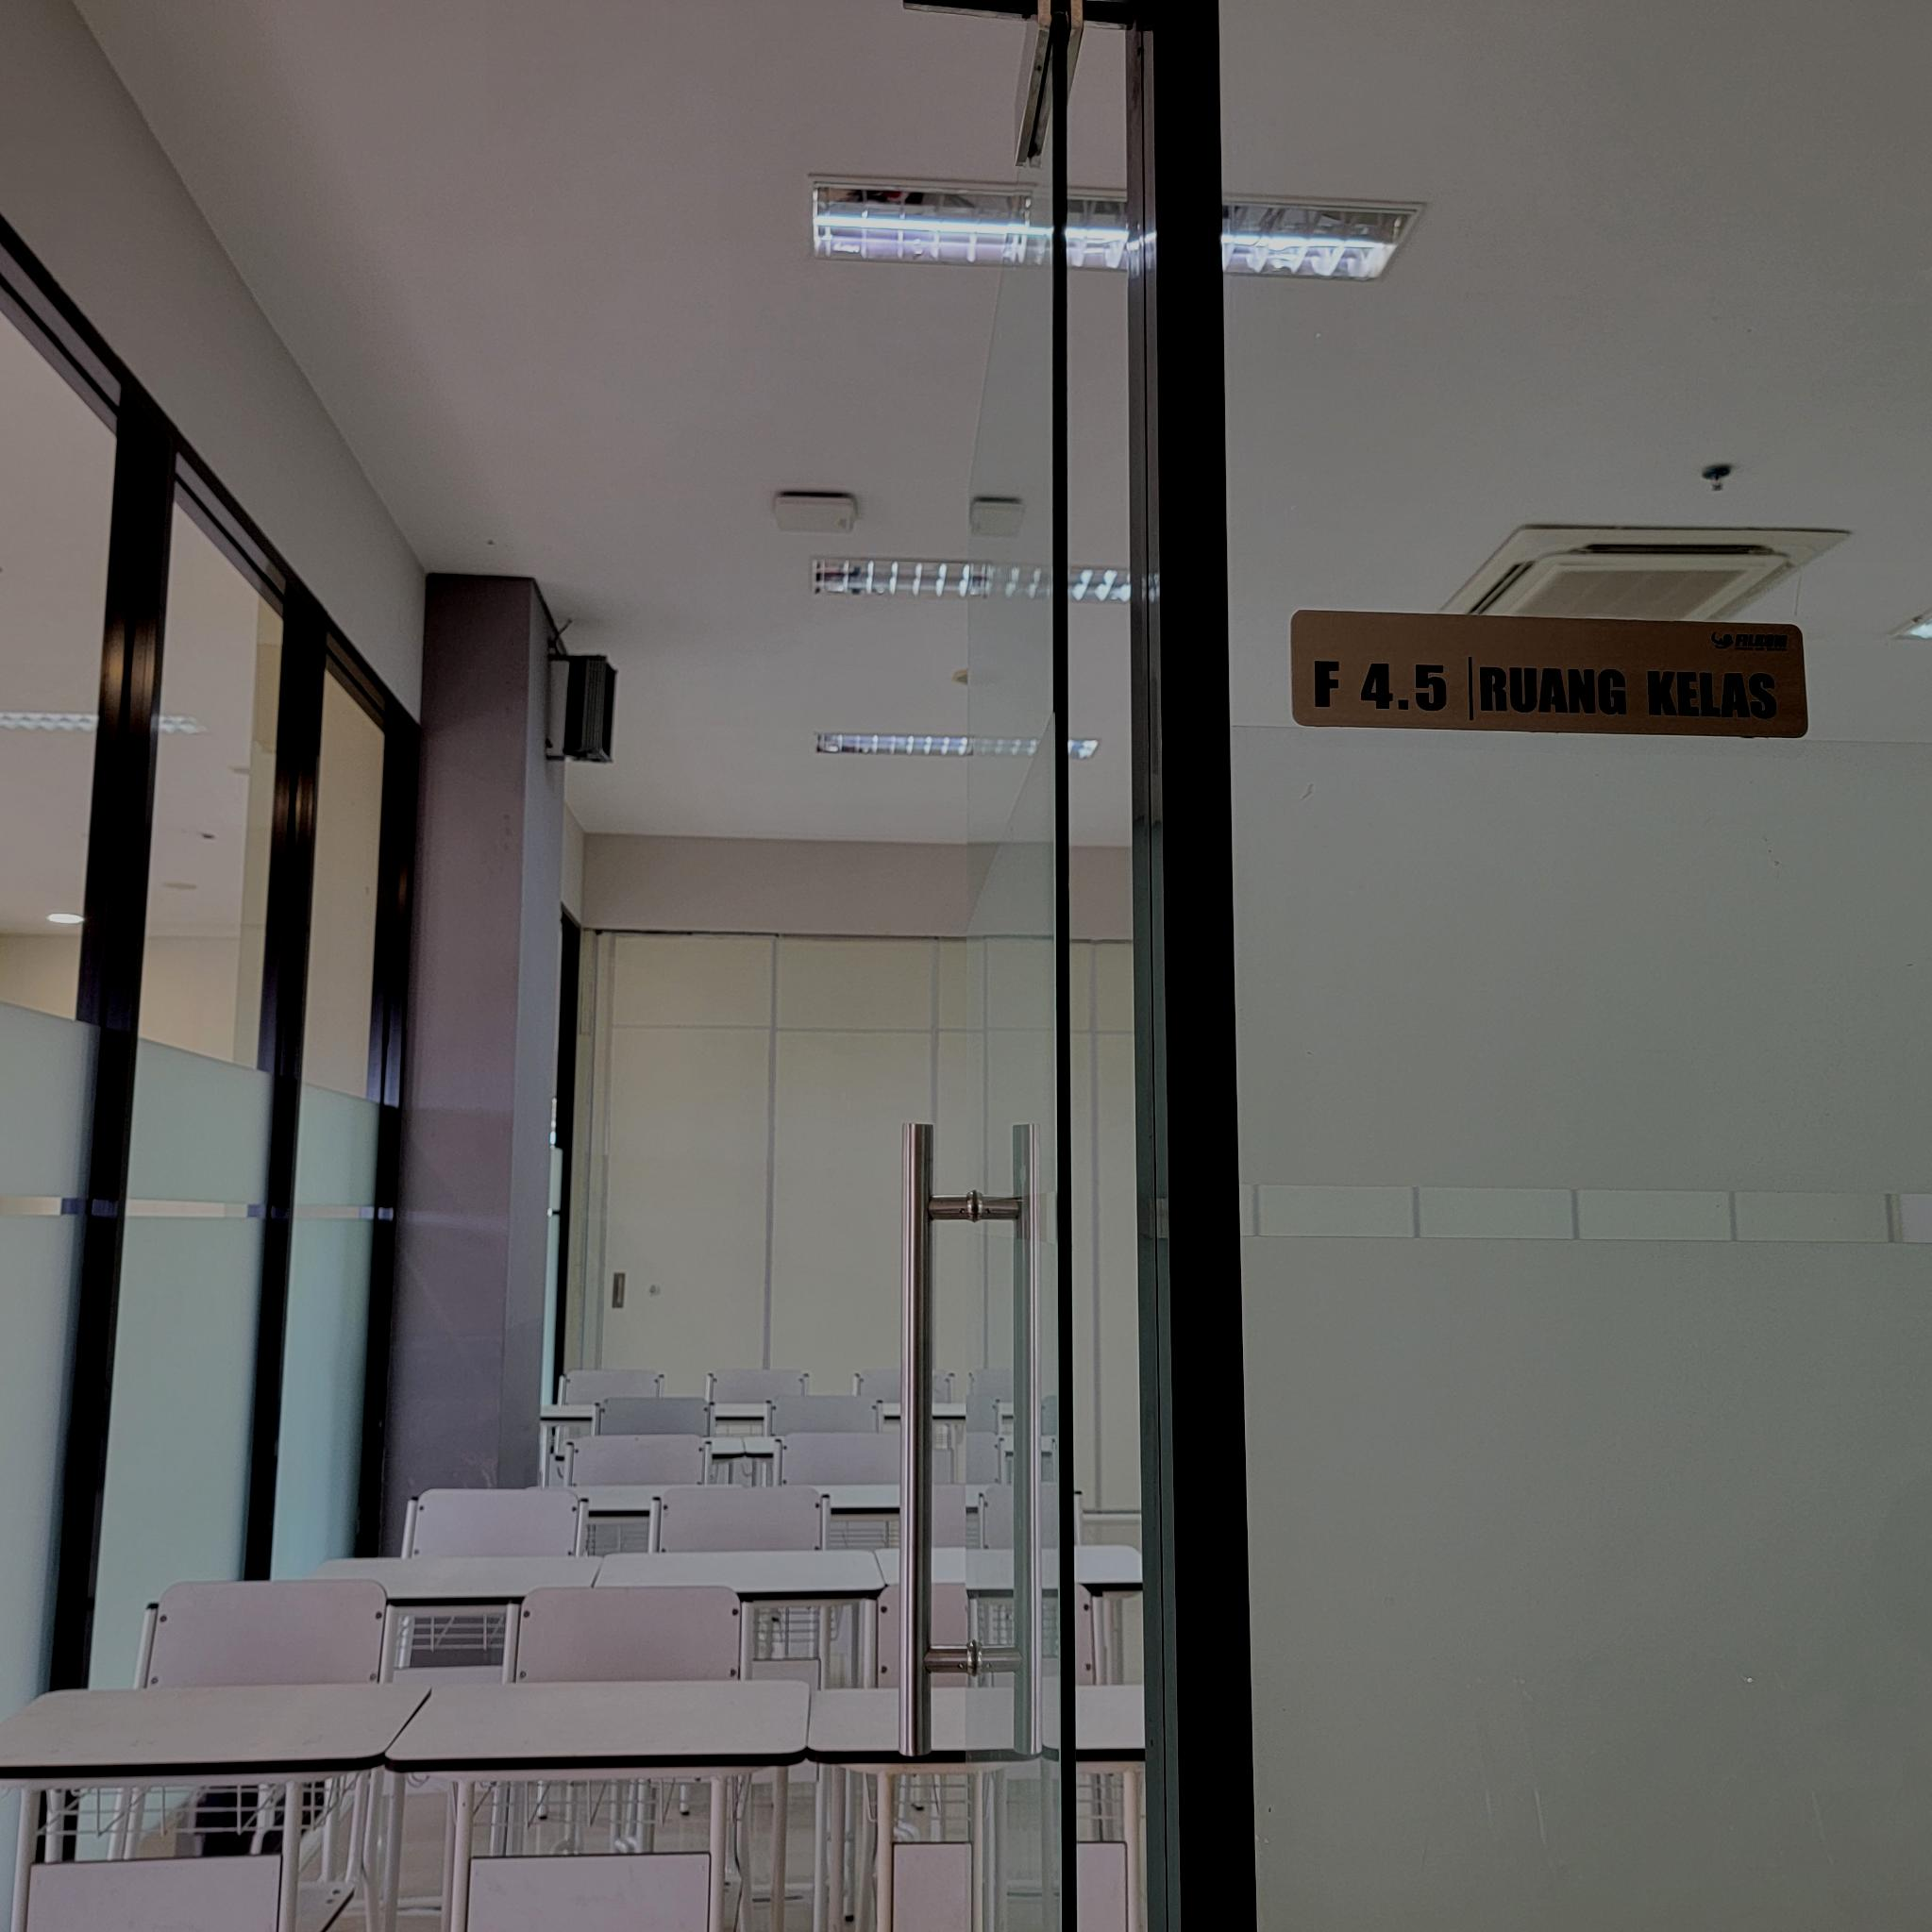plate: (1292, 609, 1810, 738)
